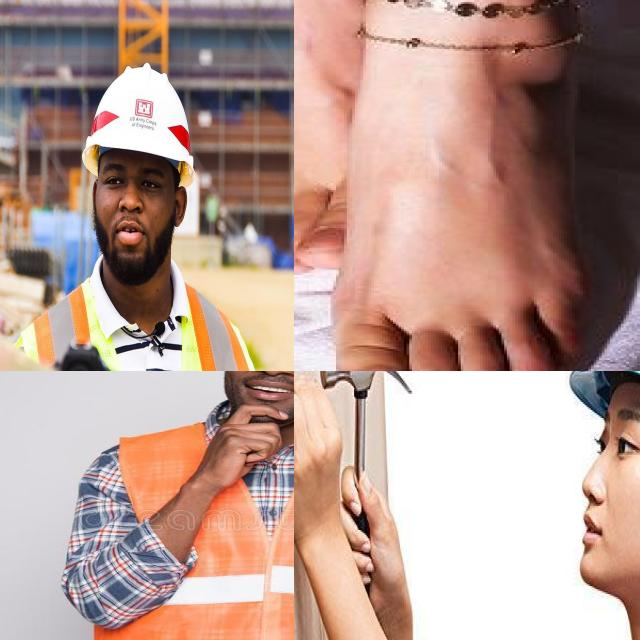Barefoots: (330, 10, 594, 371)
No_Ear-Protection: (171, 182, 190, 233)
No_Glasses: (576, 397, 640, 482), (100, 157, 168, 206)
face_nomask: (216, 371, 294, 420)
hand_noglove: (202, 408, 294, 496)
person: (71, 371, 294, 640)
vest: (91, 422, 294, 640)
